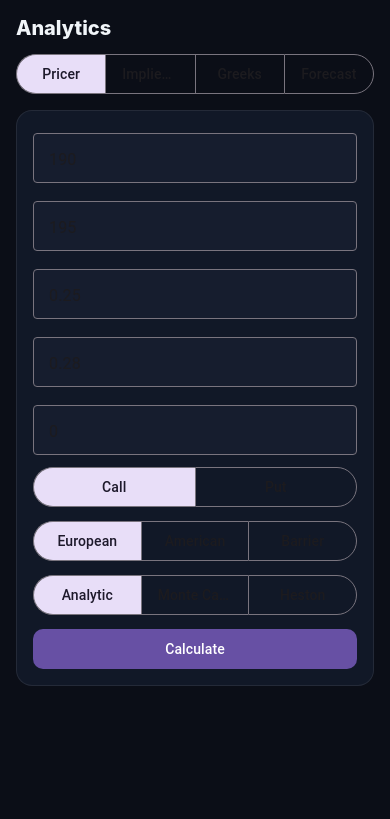
Scenario: Volatility forecast › shows n/a when confidence is missing
This screenshot has width=390, height=819.
Click the button "Forecast": {"x": 329, "y": 74} [285,55,373,93]
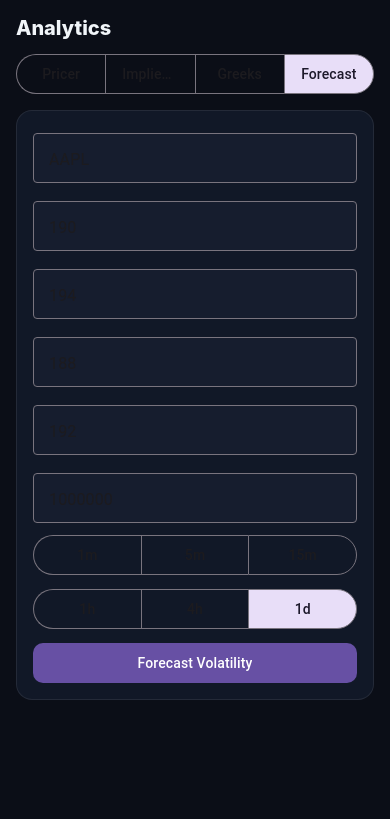
Click the button "Forecast Volatility": {"x": 195, "y": 663} [33,643,357,683]
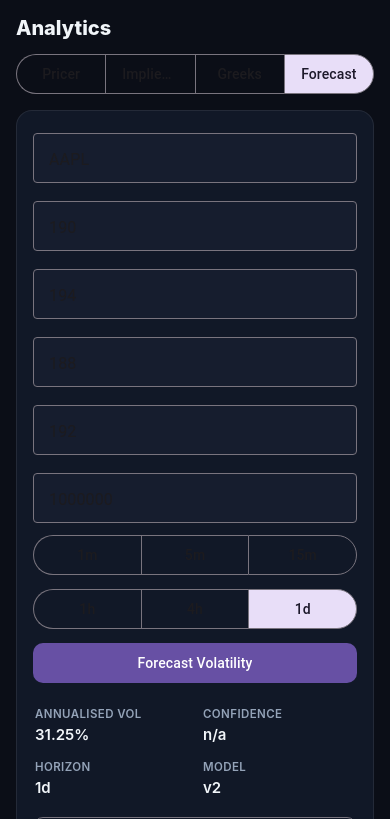
Result: the text "n/a" is shown at [203,725,226,744]
